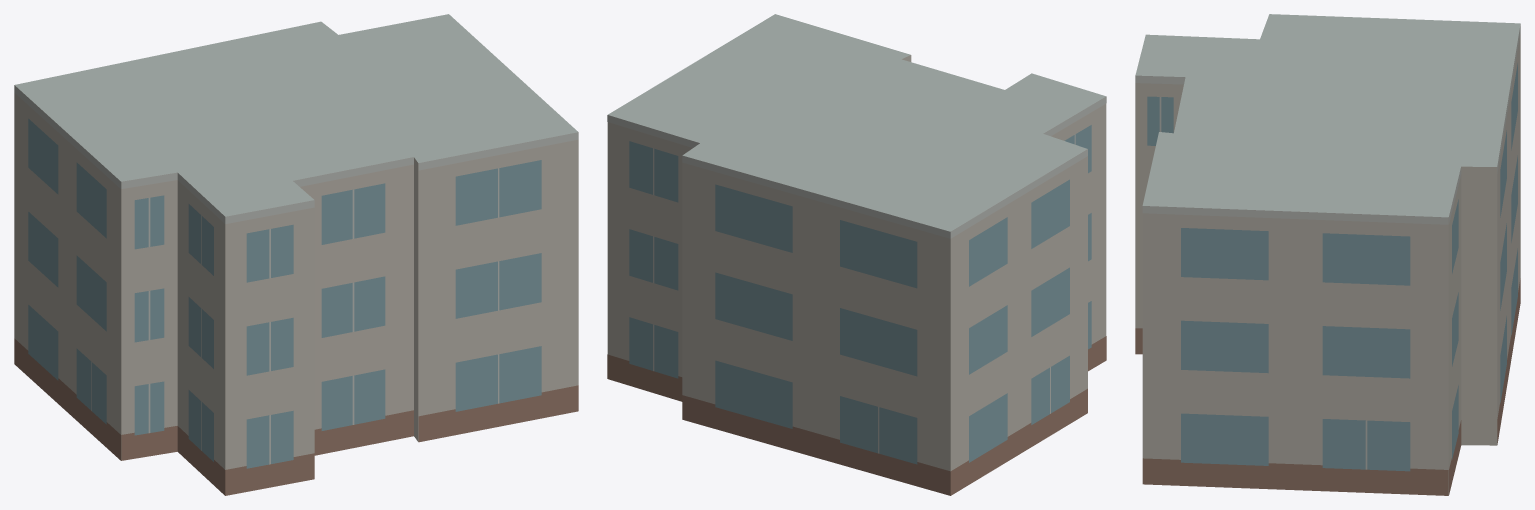
Rendered from survey-upis-32685587.glb.
The picture shows the model from 3 angles, left to right: view 1: azimuth 30°, elevation 25°; view 2: azimuth 150°, elevation 25°; view 3: azimuth 270°, elevation 25°; orthographic projection. The views are drawn at different scales.
Visible parts, largest first — view 1: survey-upis-32685587.tmp; view 2: survey-upis-32685587.tmp; view 3: survey-upis-32685587.tmp.
Part boxes in pixels (<box>): survey-upis-32685587.tmp: <box>14,14,578,495</box>; survey-upis-32685587.tmp: <box>607,14,1106,495</box>; survey-upis-32685587.tmp: <box>1135,14,1520,495</box>.
Bounding box in the file's own units: 14.34 × 9.15 × 11.48.
